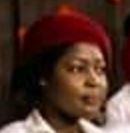without_facemask: (64, 77, 111, 116)
